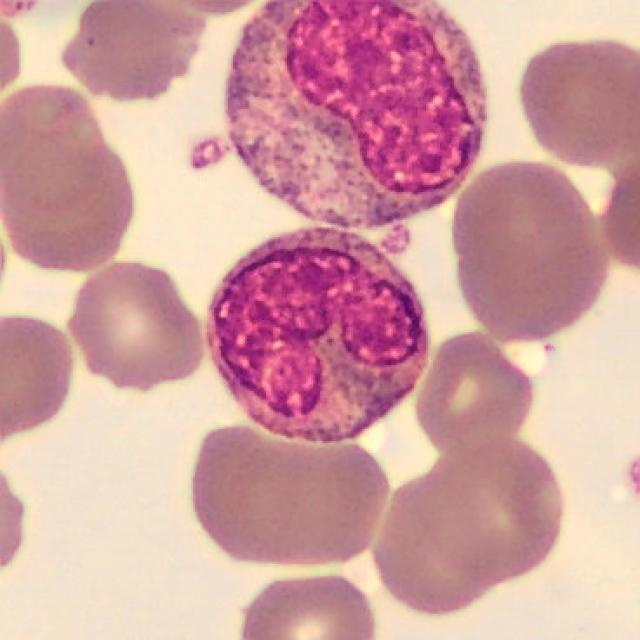Bastonete: (207, 230, 428, 446)
Metamielocito: (226, 0, 487, 232)
